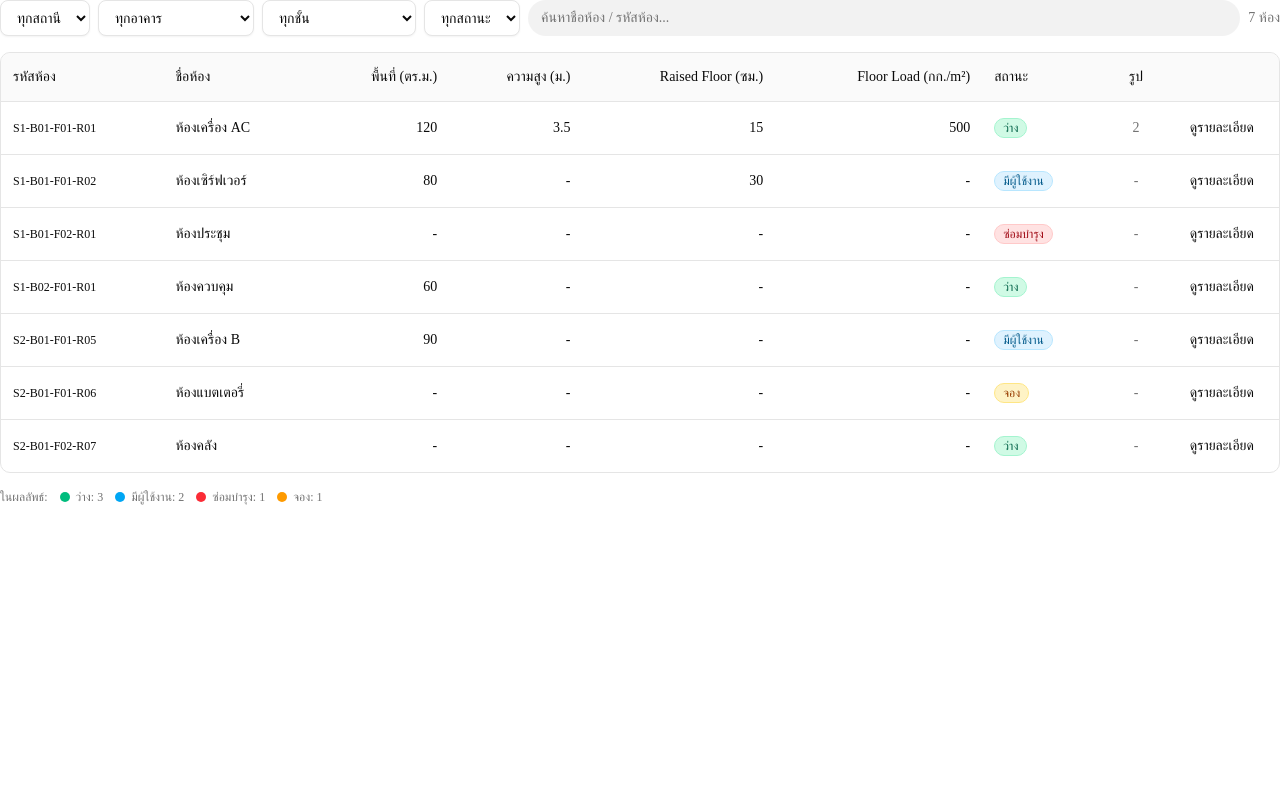
Test: RoomsClient › renders all rooms with filter selects and the result count
Check: the text "7 ห้อง" is shown, box [1248,8,1279,28]
Check: the number of dropdowns is 4, box [0,0,90,36]; [98,0,254,36]; [262,0,416,36]; [424,0,520,36]
Click the text "ห้องเครื่อง AC": (238, 128) [163,101,313,154]
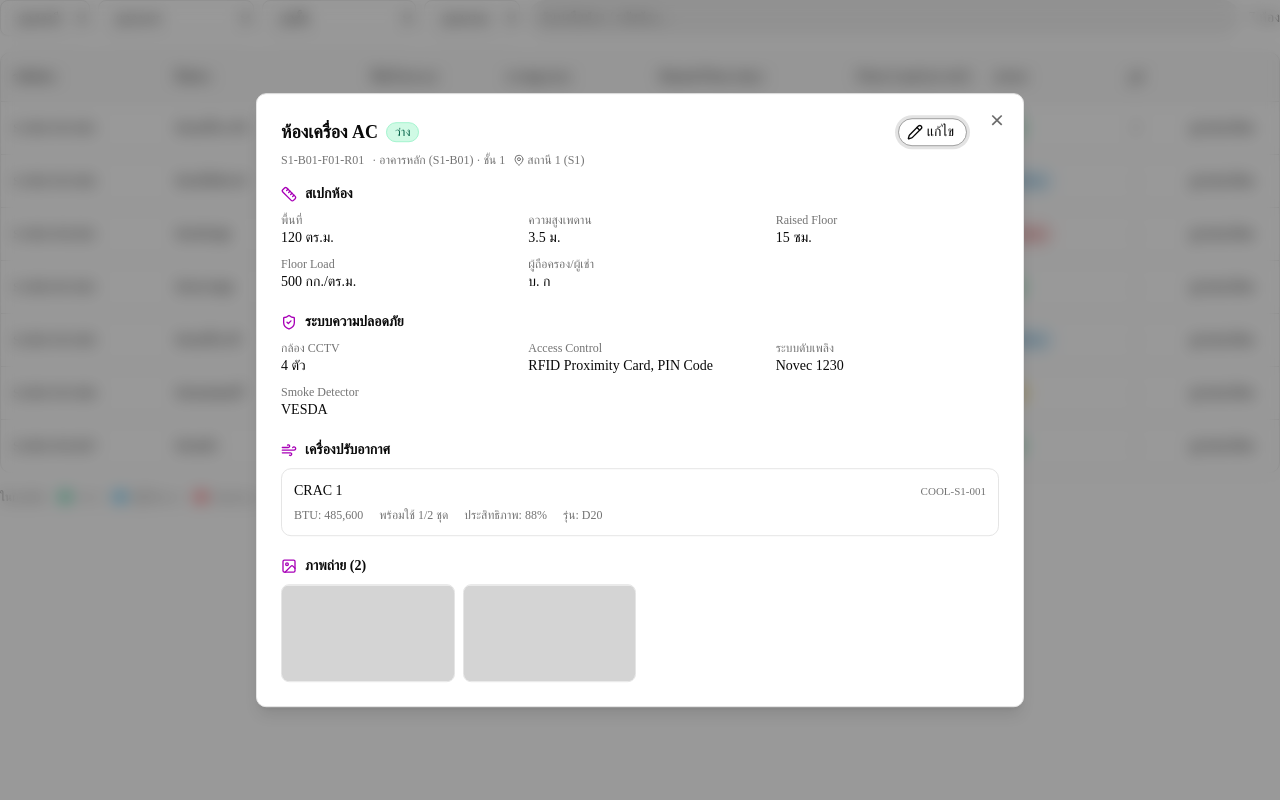
Check: the dialog is shown, box [256,93,1024,707]
